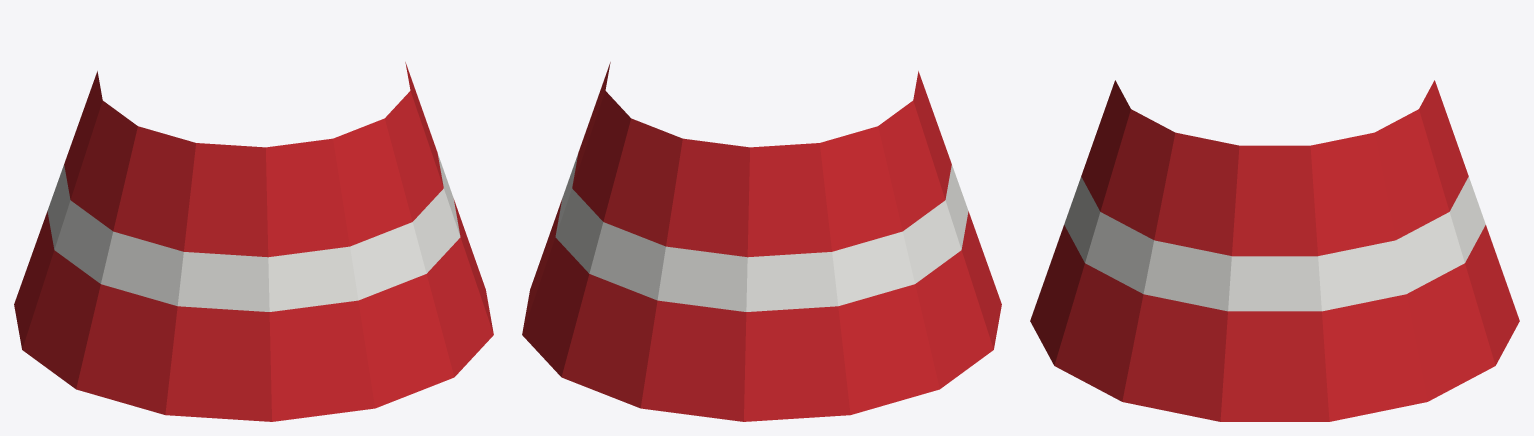
File: disguise_gym_tank.glb
3 renders of one model, left to right at view 1: azimuth 30°, elevation 25°; view 2: azimuth 150°, elevation 25°; view 3: azimuth 270°, elevation 25°, orthographic.
Visible parts, largest first — view 1: tank_gym_red, stripe_gym_white; view 2: tank_gym_red, stripe_gym_white; view 3: tank_gym_red, stripe_gym_white.
Part boxes in pixels (x1=…): tank_gym_red: x1=14, y1=62, x2=493, y2=421; stripe_gym_white: x1=47, y1=153, x2=460, y2=311; tank_gym_red: x1=522, y1=62, x2=1001, y2=421; stripe_gym_white: x1=555, y1=153, x2=968, y2=311; tank_gym_red: x1=1030, y1=80, x2=1519, y2=421; stripe_gym_white: x1=1064, y1=176, x2=1485, y2=311.
Bounding box in the file's own units: 0.8969 × 0.5 × 0.92.
